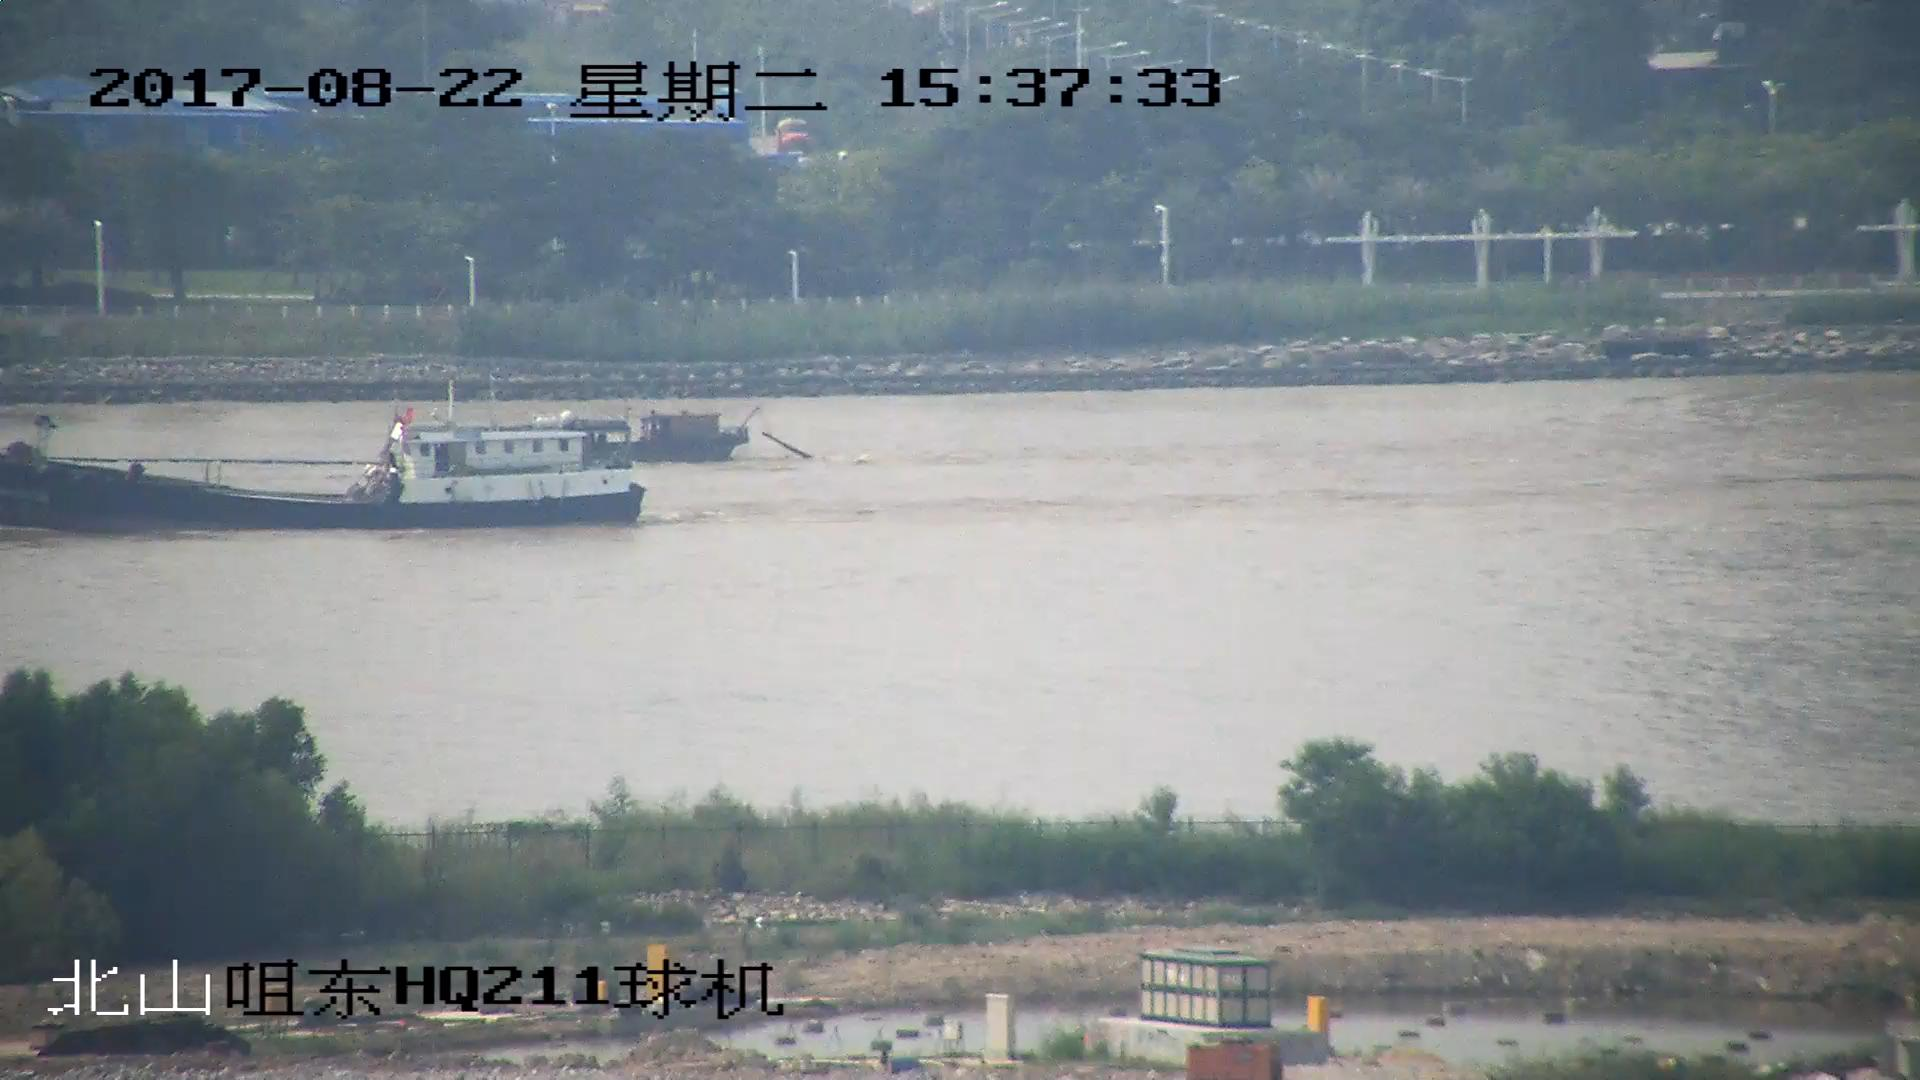fishing boat: (1, 414, 650, 529), (591, 416, 814, 465)
